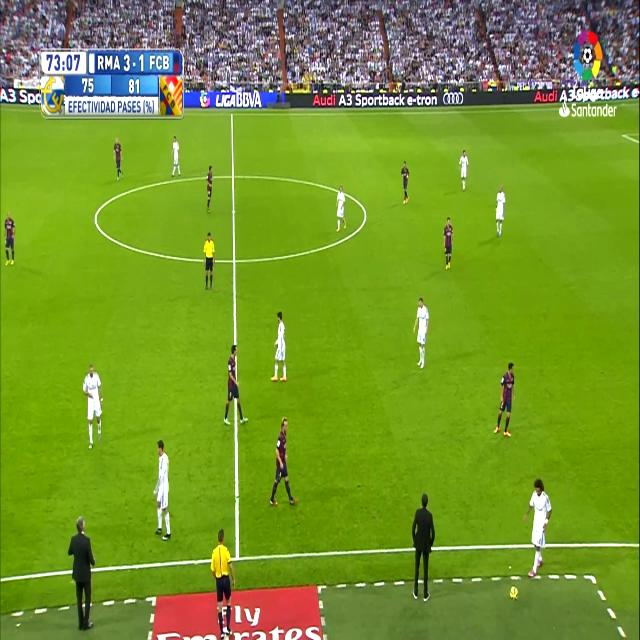halfcircle_bottom: (228, 247, 240, 272)
halfcircle_top: (228, 164, 238, 187)
midline_bottom_intersection: (229, 544, 244, 568)
midline_top_intersection: (229, 108, 235, 120)
